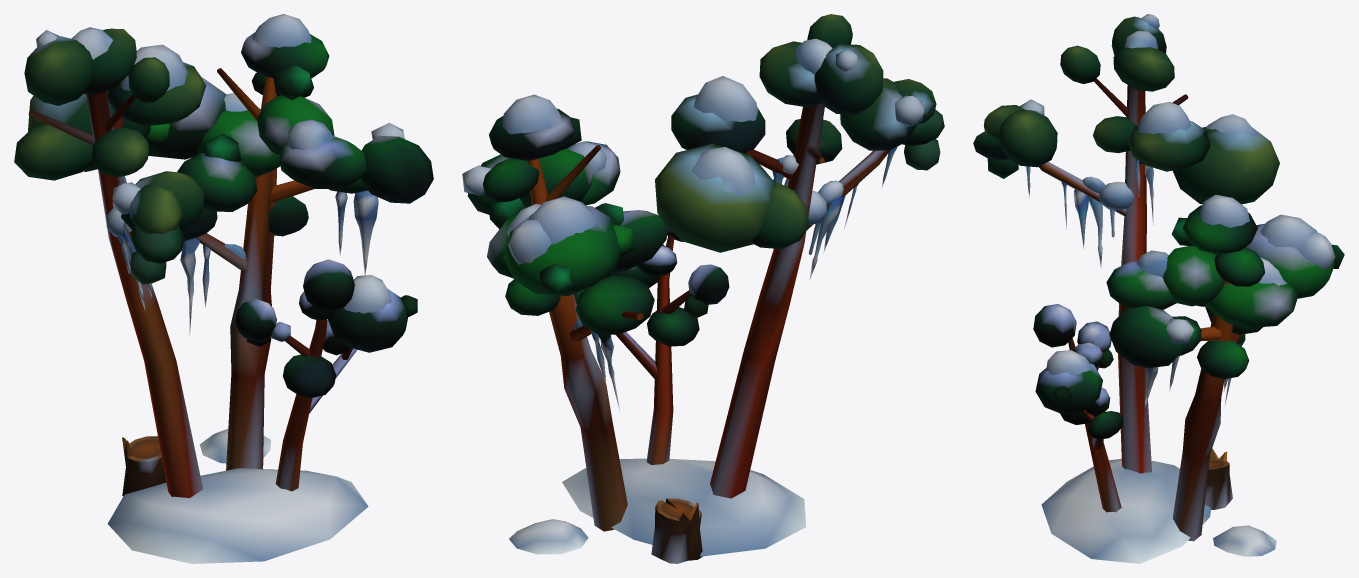
File: Pine_07.fbx
3 views of the same model, side by side, from view 1: azimuth 30°, elevation 25°; view 2: azimuth 150°, elevation 25°; view 3: azimuth 270°, elevation 25° (orthographic). The views are drawn at different scales.
Visible parts, largest first — view 1: Pine_07; view 2: Pine_07; view 3: Pine_07.
Boxes of the visible parts, x1=… form: Pine_07: x1=14, y1=14, x2=433, y2=563; Pine_07: x1=462, y1=14, x2=944, y2=563; Pine_07: x1=973, y1=14, x2=1344, y2=563.
Size of the model in its own units: 5349 by 6571 by 5100.
